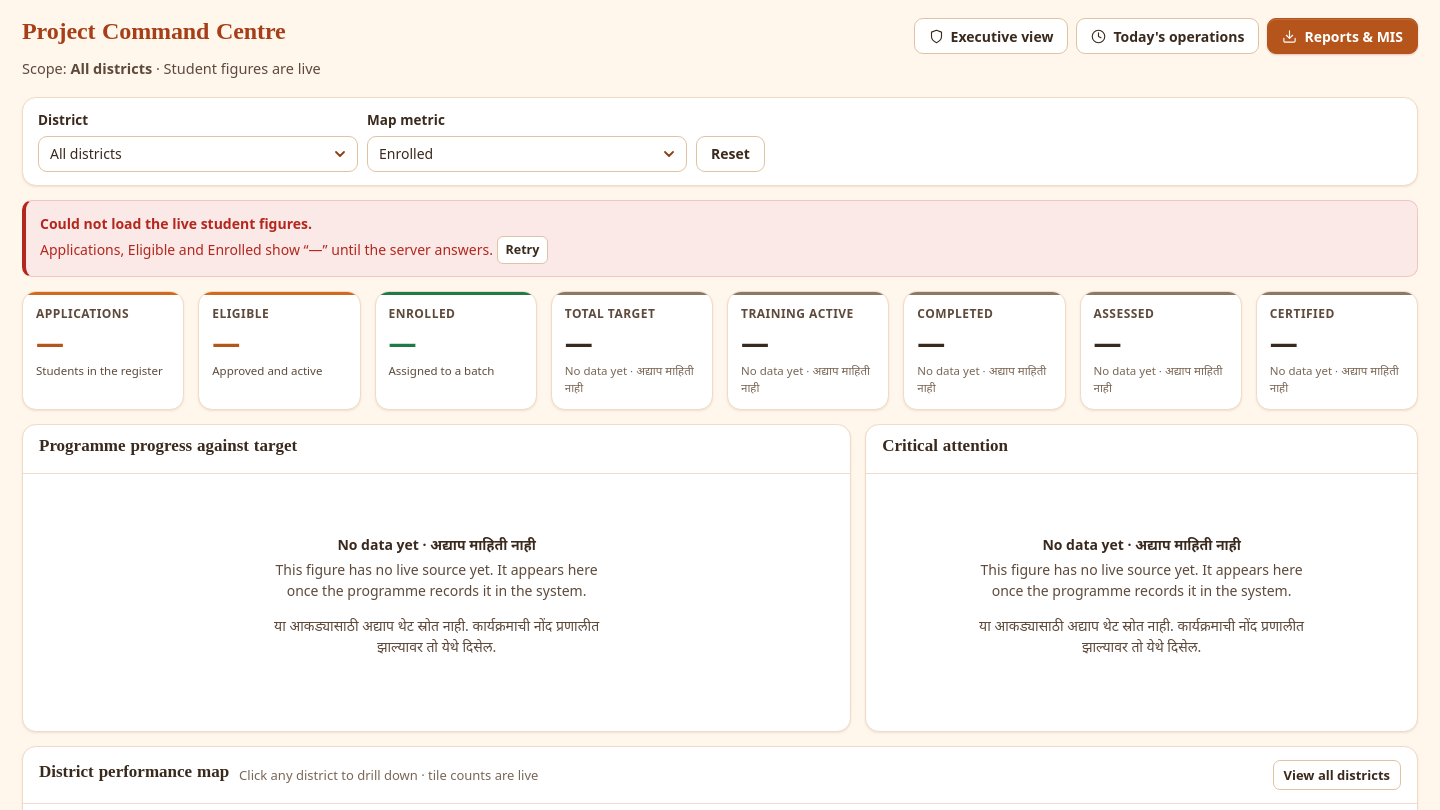
DashboardPage — live student figures › shows a loading placeholder and then an error with Retry
Expected: the text "Could not load the live student figures." is shown, x1=40 y1=214 x2=312 y2=233
Expected: the 1st text "—" is shown, x1=36 y1=323 x2=64 y2=361
Click the button "Retry": (522, 250) x1=496 y1=236 x2=548 y2=264
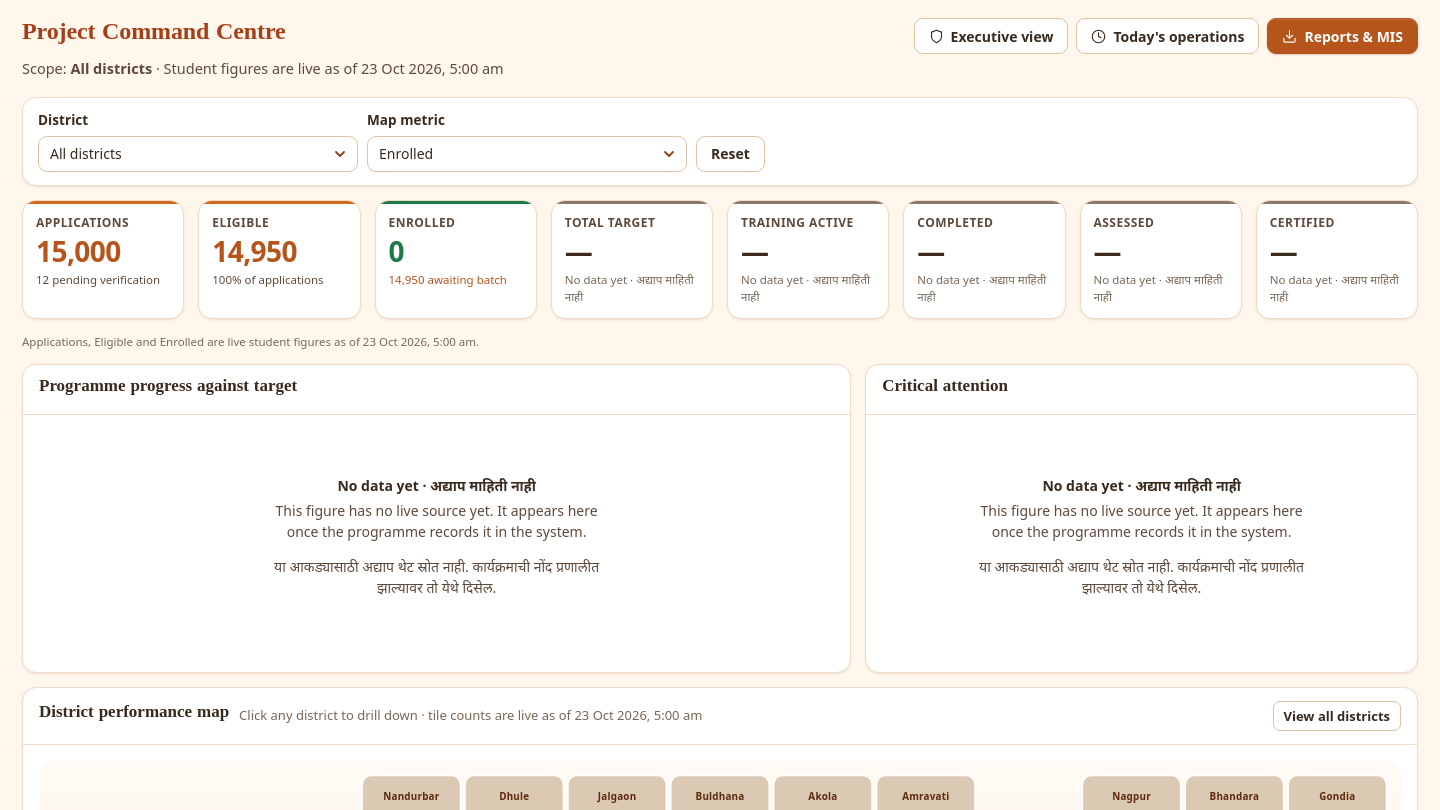
Now the text "15,000" is shown, box x1=36 y1=232 x2=121 y2=270
